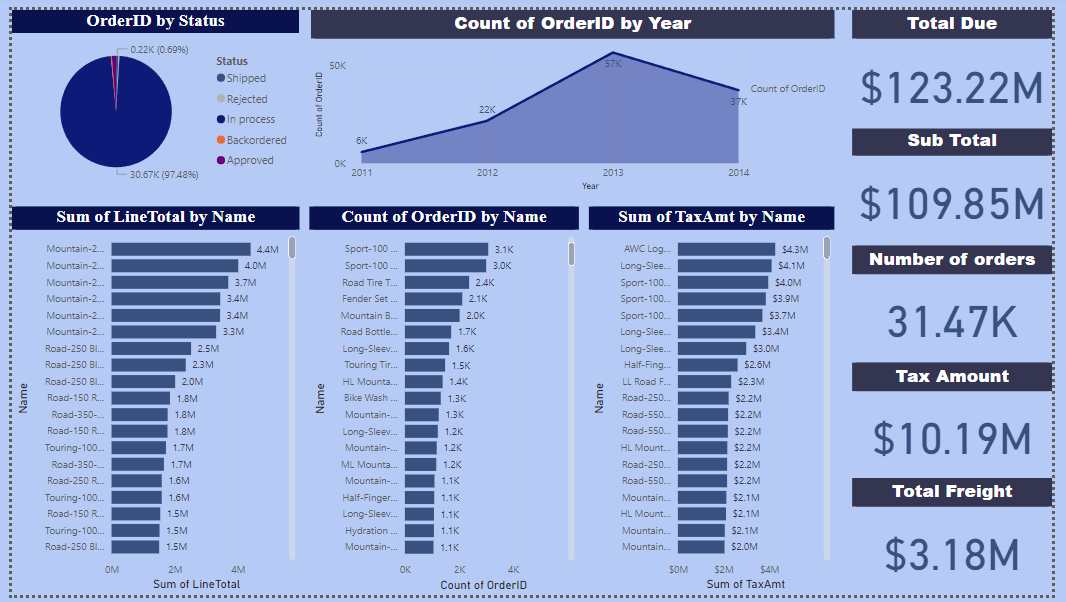

The dashboard page shown, as its layout file describes it:
{"tool":"powerbi","page":{"name":"Page 1","canvas":[1280,720],"ordinal":0},"visuals":[{"type":"card","title":"Number of orders","fields":{"Values":["CountNonNull(Order.OrderID)"]},"box":[1034,289.3,246.5,144],"z":0},{"type":"card","title":"Sub Total","fields":{"Values":["Sum(Order.SubTotal)"]},"box":[1034,143.8,246.5,144],"z":1000},{"type":"card","title":"Tax Amount","fields":{"Values":["Sum(Order.TaxAmt)"]},"box":[1034,434.8,246.5,144],"z":2000},{"type":"card","title":"Total Due","fields":{"Values":["Sum(Order.TotalDue)"]},"box":[1034,0,246,146],"z":3000},{"type":"card","title":"Total Freight","fields":{"Values":["Sum(Order.Freight)"]},"box":[1034,576.9,246.5,144],"z":4000},{"type":"pieChart","title":"OrderID by Status","fields":{"Y":["CountNonNull(Order.OrderID)"],"Category":["Status.Status"]},"box":[0,0,353.3,226.7],"z":5000},{"type":"barChart","fields":{"Category":["Product.Name"],"Y":["CountNonNull(OrderDetails.OrderID)"]},"box":[366.7,241.7,331.7,478.3],"z":6000},{"type":"barChart","fields":{"Category":["Product.Name"],"Y":["Sum(OrderDetails.LineTotal)"]},"box":[0,242,354,478],"z":7000},{"type":"barChart","fields":{"Category":["Product.Name"],"Y":["Sum(Order.TaxAmt)"]},"box":[710,242,302,478],"z":8000},{"type":"areaChart","fields":{"Category":["Order.OrderDate.Variation.Date Hierarchy.Year","Order.OrderDate.Variation.Date Hierarchy.Quarter","Order.OrderDate.Variation.Date Hierarchy.Month","Order.OrderDate.Variation.Date Hierarchy.Day"],"Y":["CountNonNull(OrderDetails.OrderID)"]},"box":[368,0,644,228],"z":9000}]}

Visuals, with their boxes in screenshot pixels (x1, y1, x2, y2), scaled from the page's 1280x720 canvas onto the 1066x602 screenshot:
"Number of orders" card: box(861, 242, 1065, 362)
"Sub Total" card: box(861, 120, 1065, 241)
"Tax Amount" card: box(861, 364, 1065, 484)
"Total Due" card: box(861, 0, 1065, 122)
"Total Freight" card: box(861, 482, 1065, 601)
"OrderID by Status" pieChart: box(0, 0, 294, 190)
barChart - Product.Name x CountNonNull(OrderDetails.OrderID): box(305, 202, 582, 601)
barChart - Product.Name x Sum(OrderDetails.LineTotal): box(0, 202, 295, 601)
barChart - Product.Name x Sum(Order.TaxAmt): box(591, 202, 843, 601)
areaChart - Order.OrderDate.Variation.Date Hierarchy.Year x Order.OrderDate.Variation.Date Hierarchy.Quarter: box(306, 0, 843, 191)
